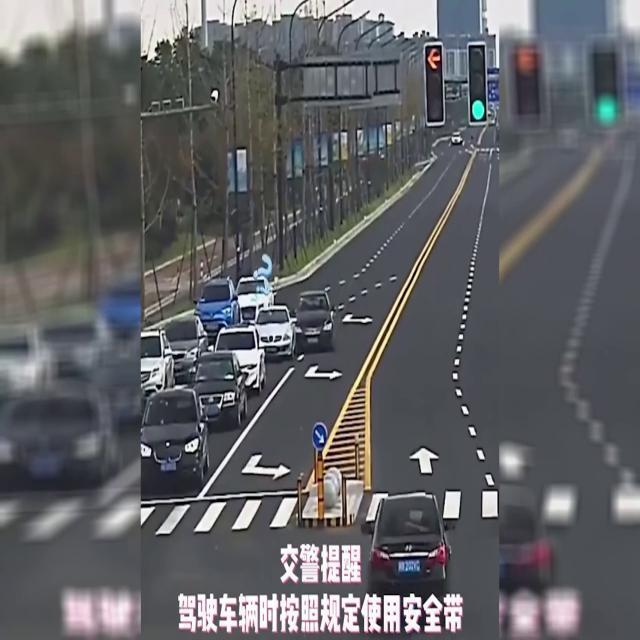accident: (255, 290, 333, 358)
non-accident: (144, 352, 248, 482), (156, 322, 266, 426), (203, 278, 291, 372)
